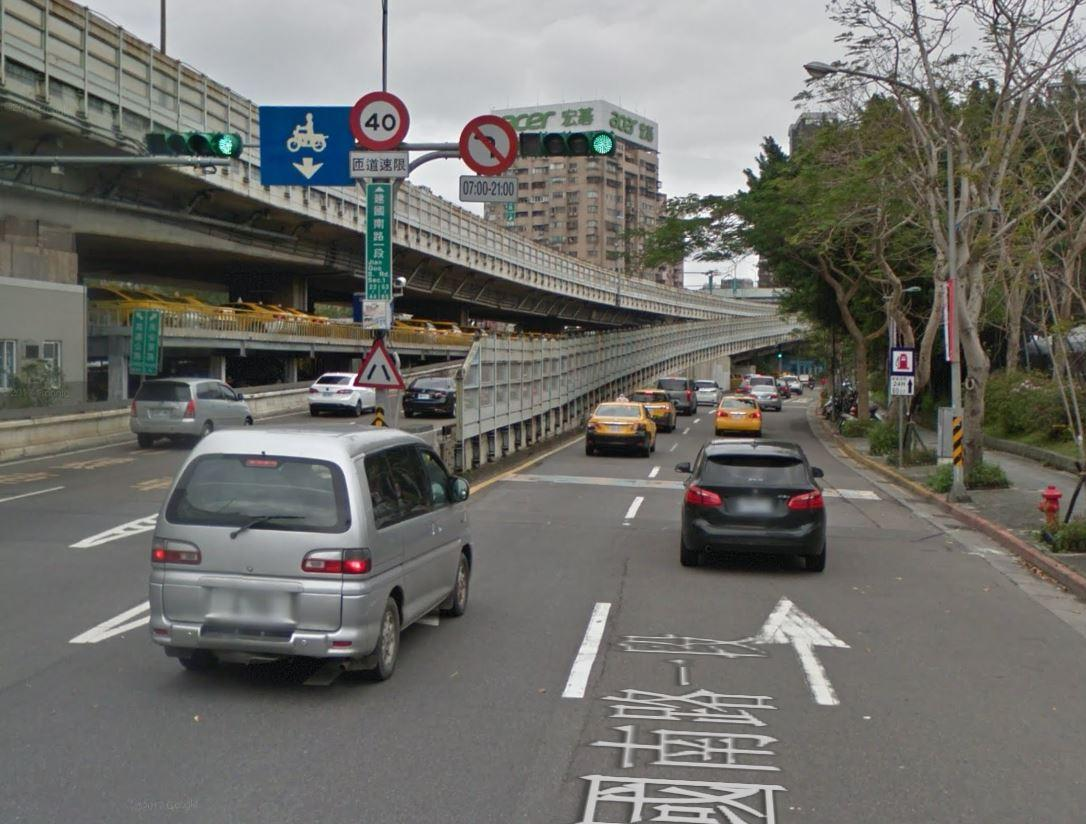green_traffic_light: (142, 128, 241, 157), (519, 129, 615, 157)
no_left_turn: (458, 113, 517, 174)
